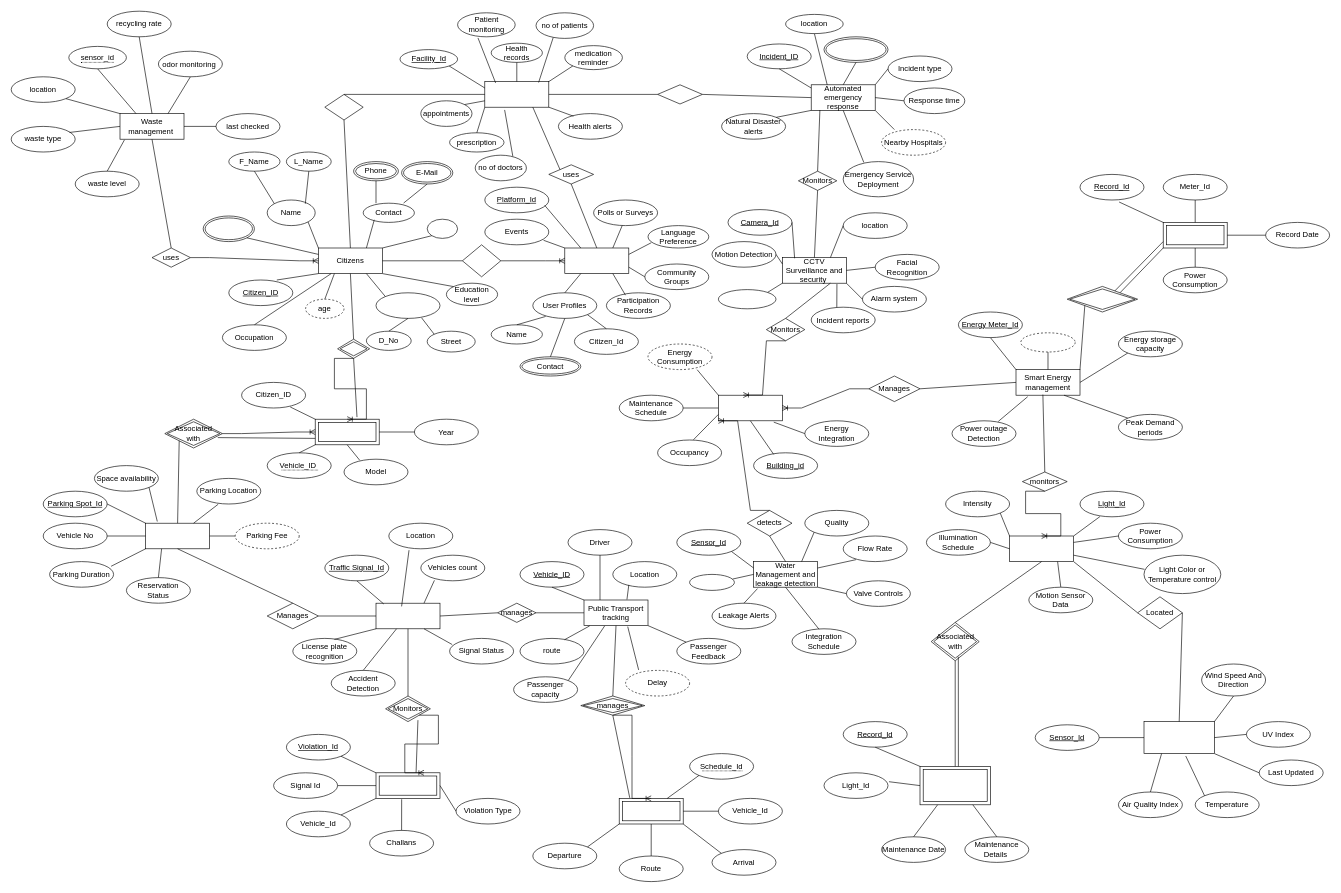
Image size: 1341x893. Some labels were removed from this diagram. Each missing label, with the centre of its shape:
Address: (x=407, y=305)
alerts: (x=679, y=94)
Billing: (x=1047, y=342)
Bus Schedule: (x=651, y=811)
Citizen Engagement platforms: (x=596, y=260)
DOB: (x=442, y=228)
Emergency contact Info: (x=855, y=49)
Energy usage record: (x=1195, y=235)
Engages: (x=481, y=260)
Environmental air quality monitoring sensors: (x=1178, y=737)
Health Care Infrastructure and telemedicine: (x=516, y=94)
Intelligent traffic management: (x=407, y=616)
Intrusion alerts: (x=747, y=299)
Languages known: (x=228, y=228)
Light maintainance record: (x=954, y=785)
owns: (x=353, y=348)
recorded by: (x=1102, y=299)
Smart Buildings: (x=750, y=408)
Smart Parking: (x=177, y=536)
Smart Street lights: (x=1041, y=548)
Traffic Violation: (x=407, y=785)
Usage: (x=711, y=582)
Utilizes: (x=343, y=107)
Vehicle: (x=347, y=432)
